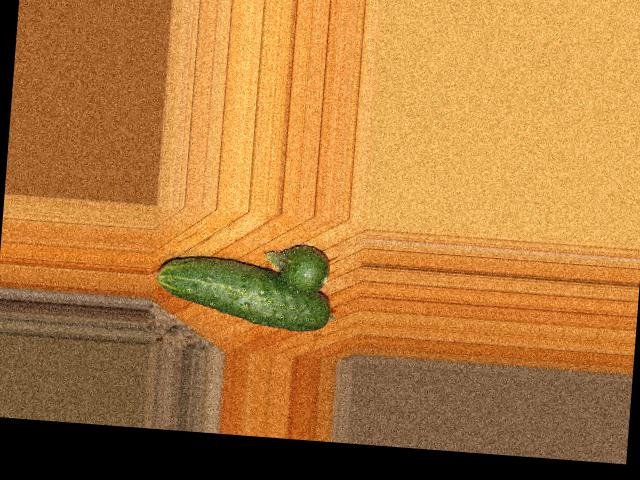cucumber: (153, 253, 334, 333)
